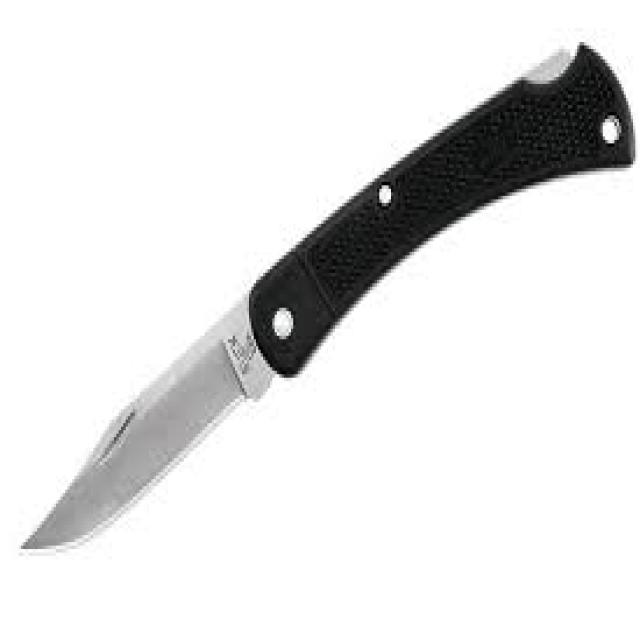knives: (16, 32, 638, 560)
